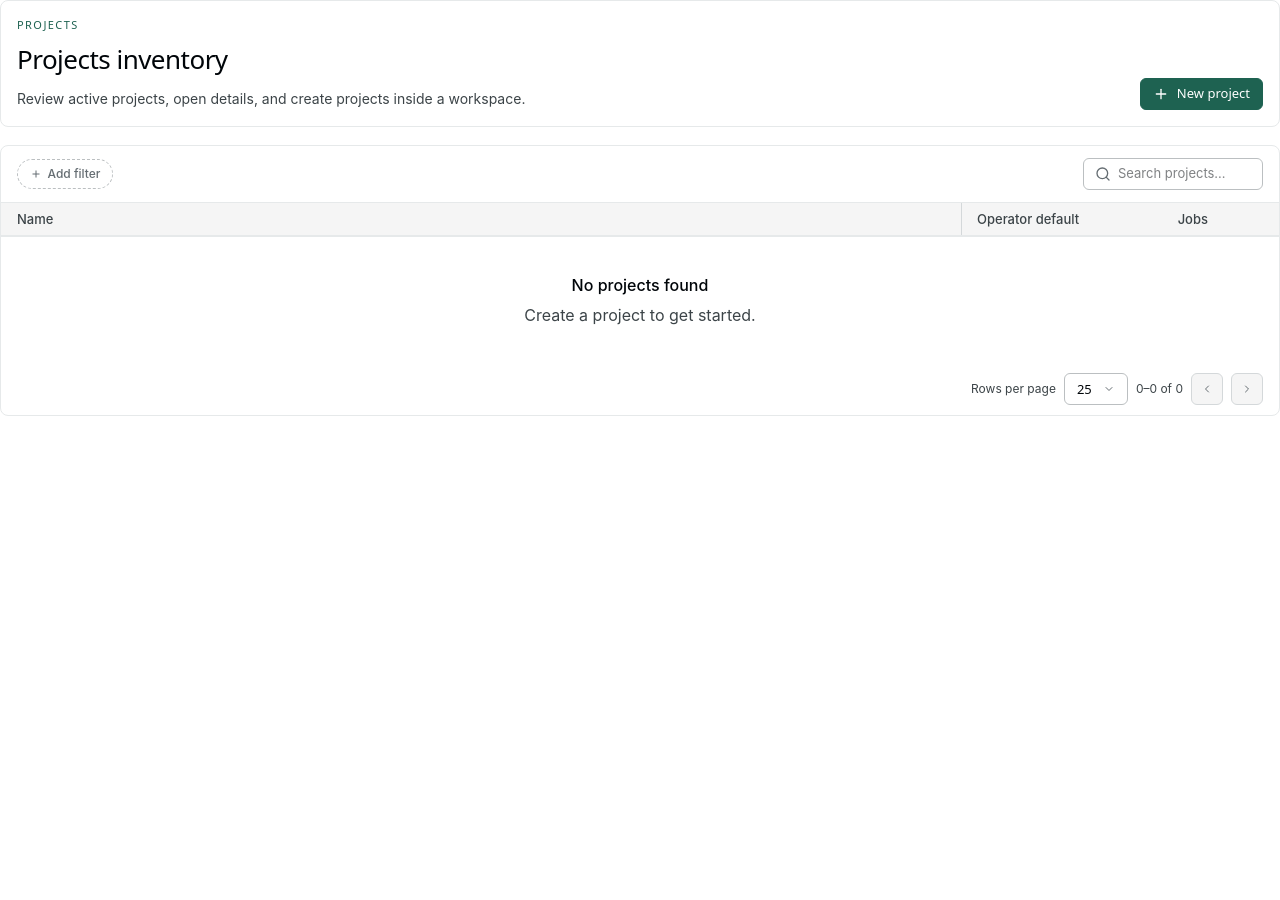
Test: Quick create project contract › does not send a request when there is no available workspace
Click the button with test id "create-project": coordinates (1201, 94) x1=1140 y1=78 x2=1263 y2=110
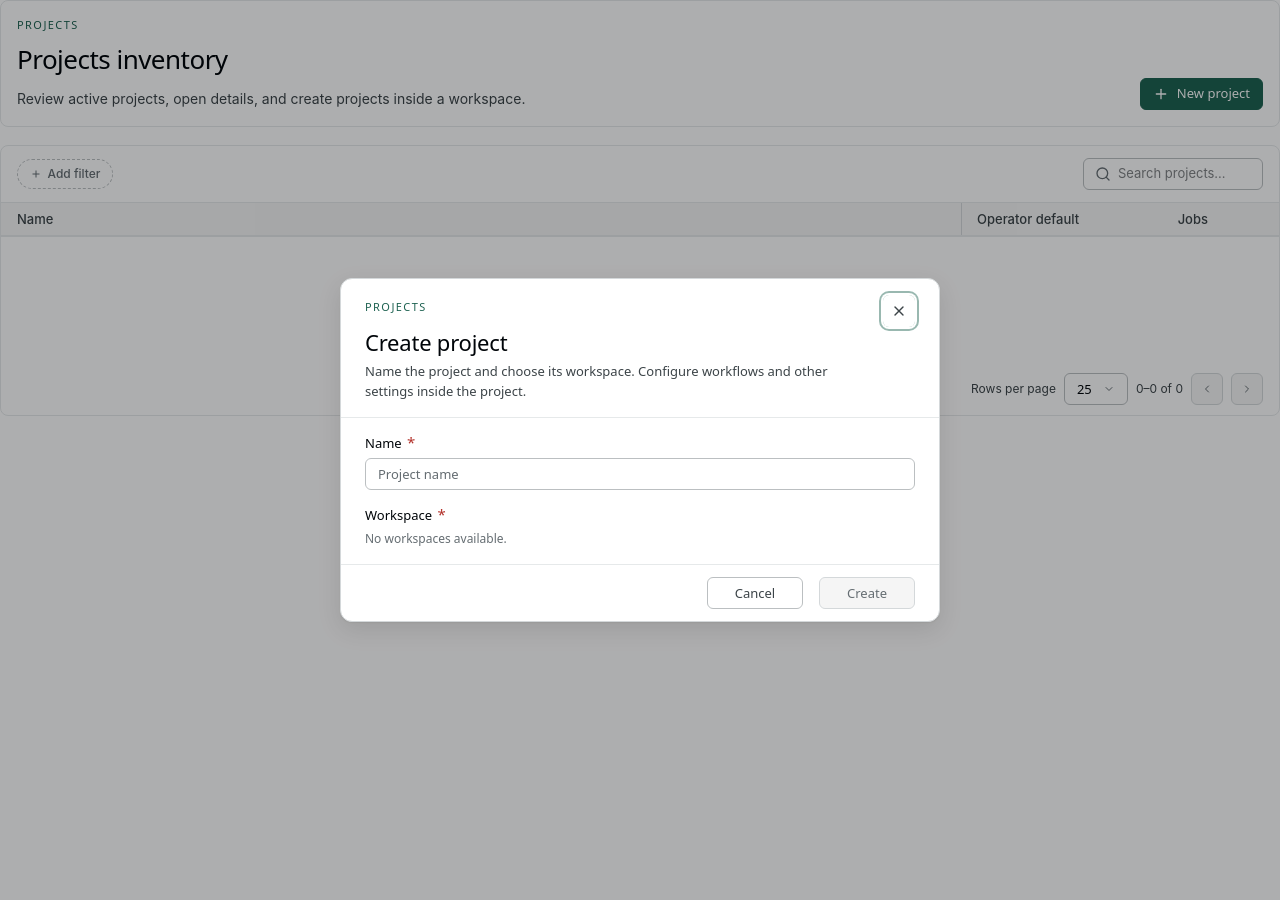
In the field labelled "Name": coordinates (640, 474) x1=365 y1=458 x2=915 y2=490, type "No workspace"
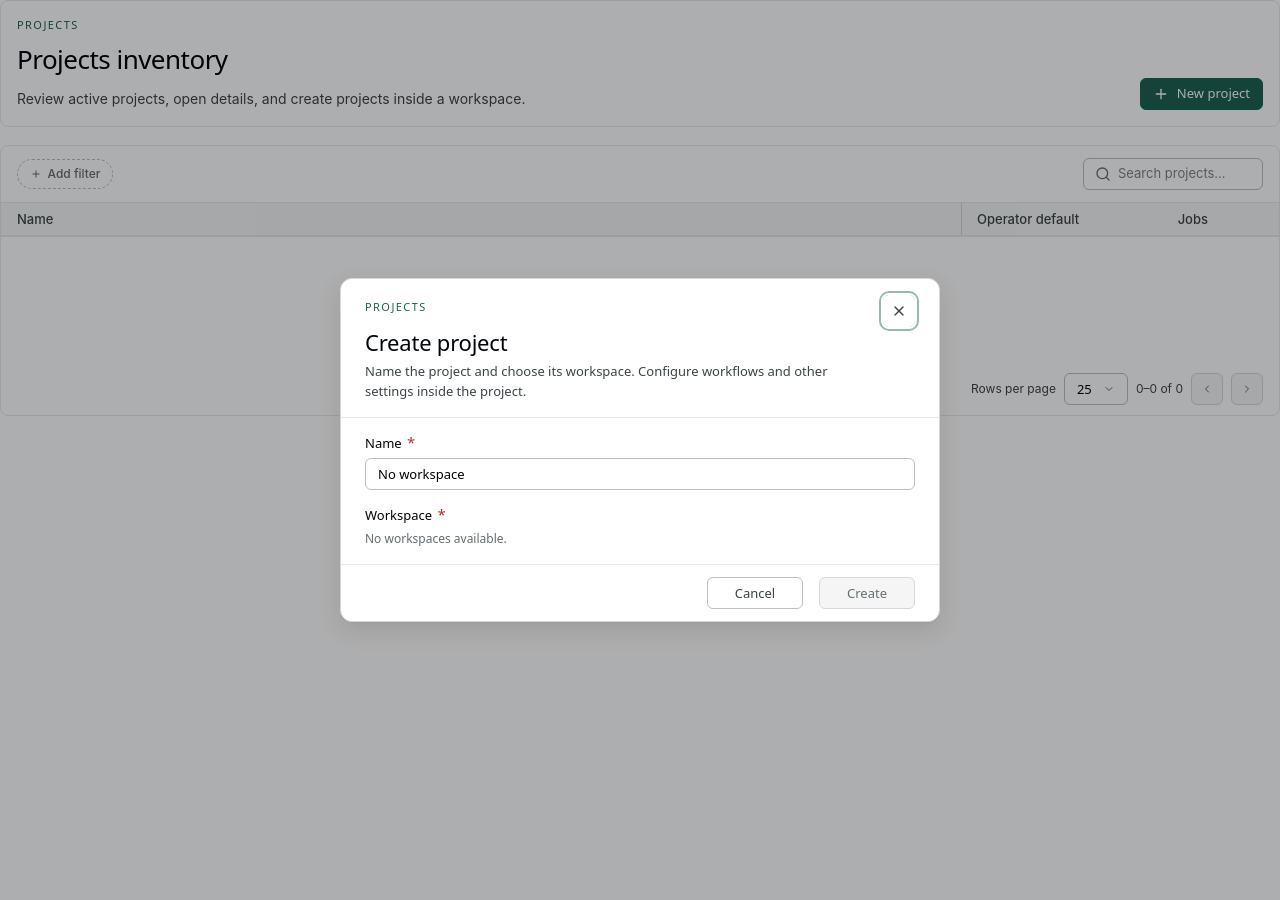
Submit the form with test id "create-modal", box x1=365 y1=434 x2=915 y2=548
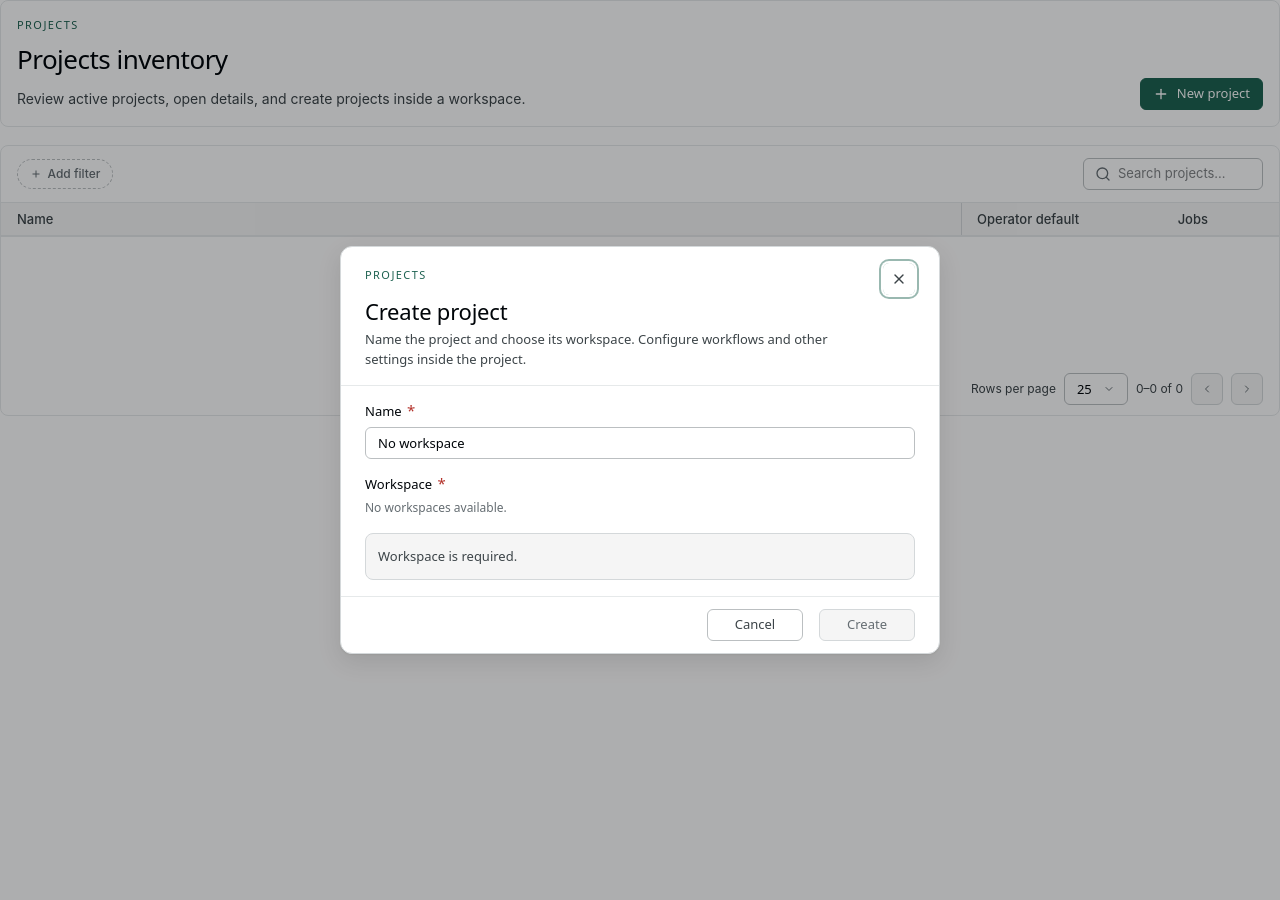
Now the text "Workspace is required." is shown, box x1=365 y1=533 x2=915 y2=580
